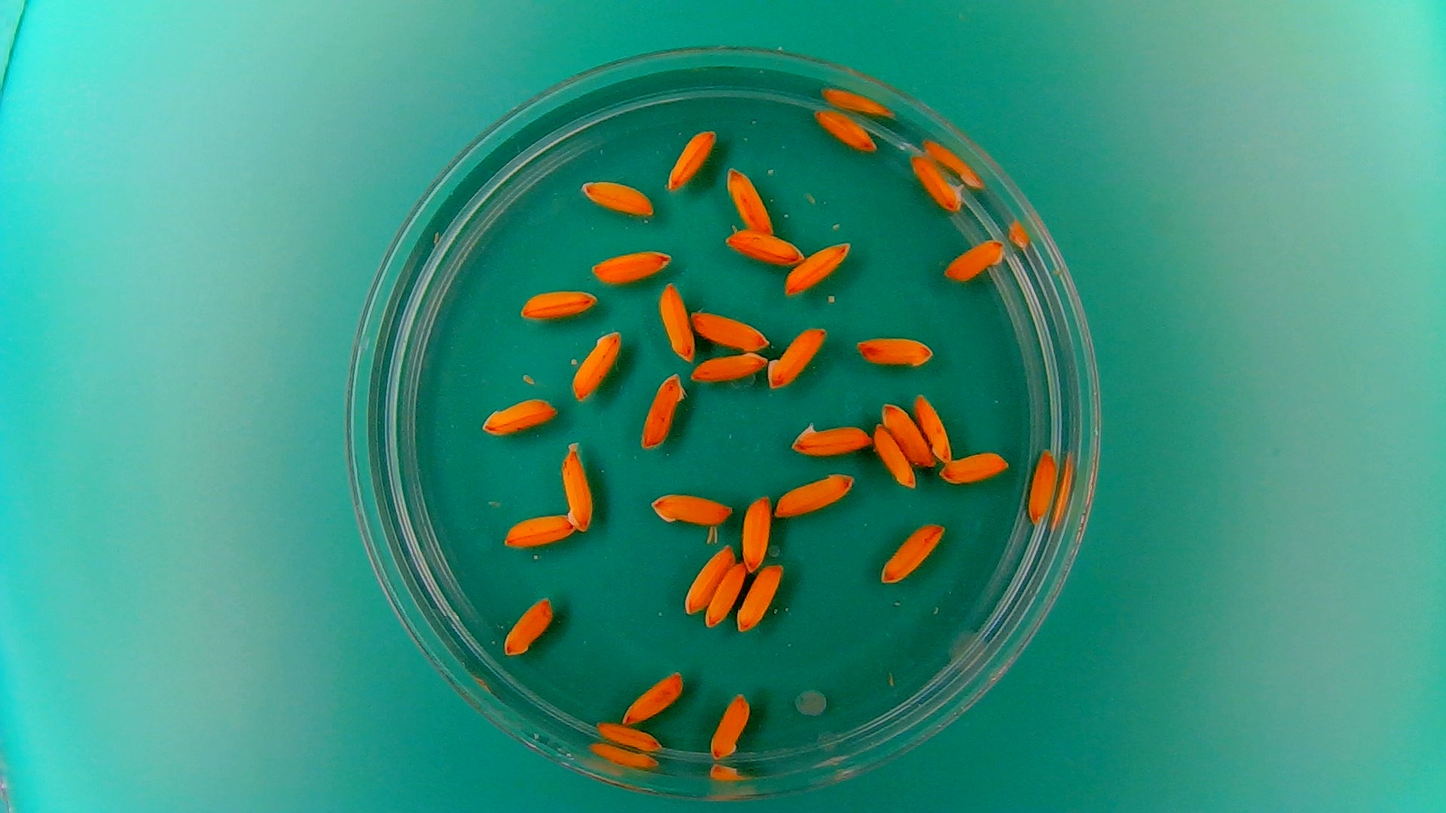no: (879, 519, 947, 586), (567, 324, 623, 403), (771, 468, 856, 519), (767, 323, 829, 391), (782, 239, 853, 297), (637, 370, 687, 452), (682, 541, 735, 615), (687, 306, 770, 352), (880, 397, 934, 467), (619, 667, 685, 724), (734, 560, 785, 633), (645, 488, 737, 528), (706, 688, 755, 761), (499, 592, 554, 657), (558, 441, 596, 534), (477, 394, 559, 437), (788, 416, 874, 457), (588, 245, 674, 285), (724, 164, 773, 233), (665, 125, 717, 190), (578, 176, 657, 218), (657, 279, 696, 364), (811, 105, 878, 153), (941, 235, 1007, 283), (724, 226, 805, 265), (872, 420, 917, 489), (498, 510, 577, 549), (703, 559, 747, 629), (912, 390, 953, 464), (853, 332, 935, 368), (517, 285, 599, 321), (1024, 445, 1060, 527), (688, 349, 767, 385), (938, 448, 1011, 486), (740, 491, 773, 573), (593, 719, 663, 753)
yes: (906, 148, 964, 213)
